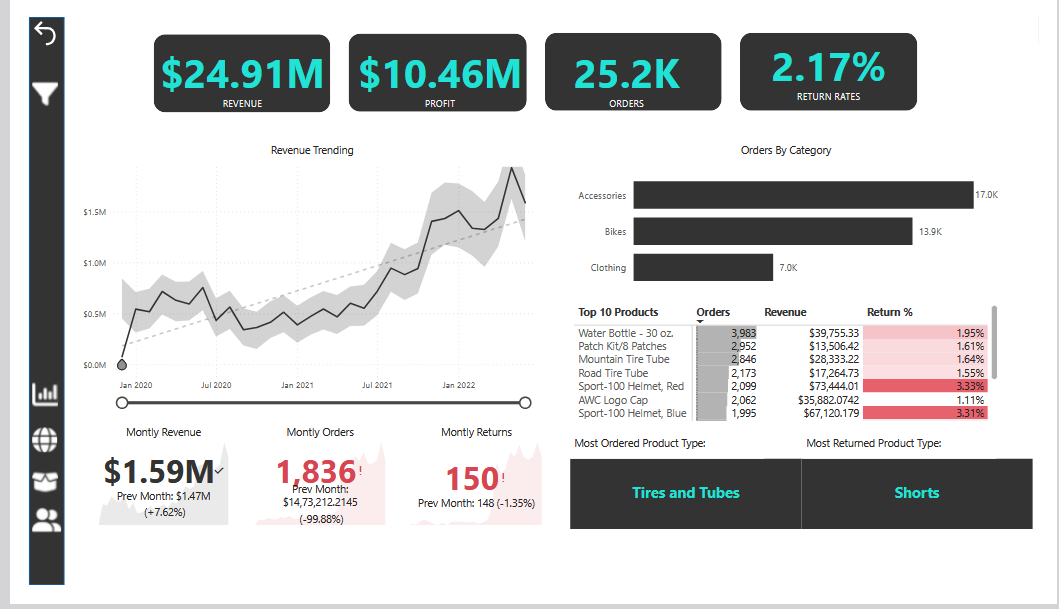

This screenshot's page, from the dashboard's own definition file:
{"tool":"powerbi","page":{"name":"Exec Dashboard","canvas":[1280,720],"ordinal":0},"visuals":[{"type":"card","fields":{"Values":["Measure Table.Total Revenue"]},"box":[150.5,2.6,239.4,148.1],"z":0,"group":"g2"},{"type":"group","id":"g1","title":"KPI Backgrounds","box":[157.6,19.4,968.3,101.1],"z":0,"group":"g3"},{"type":"shape","box":[900.3,19.4,225.2,99.3],"z":0,"group":"g1"},{"type":"actionButton","box":[0,458.2,44.5,40.6],"z":0,"group":"g4"},{"type":"shape","title":"Left Nav Background","box":[0,0,44.5,720],"z":1000},{"type":"group","id":"g2","title":"KPI Values","box":[150.5,2.6,975.4,148.3],"z":1000,"group":"g3"},{"type":"card","fields":{"Values":["Measure Table.Total Profit"]},"box":[401.1,2.6,238.5,148.1],"z":1000,"group":"g2"},{"type":"shape","box":[653.3,19.4,224.3,99.3],"z":1000,"group":"g1"},{"type":"actionButton","box":[0,569.5,44.5,40.6],"z":1000,"group":"g4"},{"type":"group","id":"g3","title":"KPIs","box":[150.5,2.6,975.3,147.9],"z":2000},{"type":"card","fields":{"Values":["Measure Table.Total orders"]},"box":[637.8,2.6,239,148.3],"z":2000,"group":"g2"},{"type":"shape","box":[405,20.3,225.2,99.3],"z":2000,"group":"g1"},{"type":"actionButton","box":[0,515.8,44.5,40.6],"z":2000,"group":"g4"},{"type":"card","fields":{"Values":["Measure Table.Return Rates"]},"box":[900.6,2.6,225.2,130.3],"z":3000,"group":"g2"},{"type":"shape","box":[157.6,21.2,224.3,99.3],"z":3000,"group":"g1"},{"type":"lineChart","title":"Revenue Trending","fields":{"Y":["Measure Table.Total Revenue"],"Category":["Calendar Lookup.Start of Month"]},"box":[62.8,159.7,591.7,340.4],"z":3000},{"type":"actionButton","box":[0,600.9,44.5,72],"z":3000,"group":"g4"},{"type":"kpi","title":"Montly Revenue","fields":{"Indicator":["Measure Table.Total Revenue"],"TrendLine":["Calendar Lookup.Start of Month"],"Goal":["Measure Table.Previous Month Revenue"]},"box":[82.8,516.6,175.5,132.7],"z":4000},{"type":"kpi","title":"Montly Returns","fields":{"Indicator":["Measure Table.Total returns"],"TrendLine":["Calendar Lookup.Start of Month"],"Goal":["Measure Table.Previous Month Returns"]},"box":[479.5,516.6,175.5,132.7],"z":5000},{"type":"kpi","title":"Montly Orders","fields":{"TrendLine":["Calendar Lookup.Start of Month"],"Goal":["Measure Table.Previous Month Revenue"],"Indicator":["Measure Table.Total orders"]},"box":[281.1,516.6,175.5,132.7],"z":6000},{"type":"clusteredBarChart","title":"Orders By Category","fields":{"Category":["Product Categories Lookup.CategoryName"],"Y":["Measure Table.Total orders"]},"box":[686.4,159.8,546.5,199.8],"z":7000},{"type":"pivotTable","fields":{"Rows":["Product Lookup.ProductName"],"Values":["Measure Table.Total orders","Measure Table.Total Revenue","Measure Table.Return Rates"]},"box":[686,360,547.2,157.1],"z":8000},{"type":"card","fields":{"Values":["Min(Product Subcategory Lookup.SubcategoryName)"]},"box":[686,560.3,293.2,89],"z":9000},{"type":"textbox","box":[686,526.3,246.1,34],"z":10000},{"type":"card","fields":{"Values":["Min(Product Subcategory Lookup.SubcategoryName)"]},"box":[979.2,560.3,293.2,89],"z":11000},{"type":"textbox","box":[980,525.8,246.1,34],"z":12000},{"type":"actionButton","box":[0,0,45.8,40.6],"z":13000},{"type":"group","id":"g4","title":"Navigation Buttons","box":[0,458.2,44.5,214.7],"z":14000},{"type":"actionButton","box":[0,77.2,44.5,40.6],"z":15000}]}

Visuals, with their boxes on the page's 1280x720 design canvas (x1, y1, x2, y2). These are canvas units, not pixel positions in the 1059x609 screenshot, which may show the page scaled, cropped or inside an application window:
card - Measure Table.Total Revenue: (x1=150, y1=3, x2=390, y2=151)
"KPI Backgrounds" group: (x1=158, y1=19, x2=1126, y2=120)
shape: (x1=900, y1=19, x2=1126, y2=119)
actionButton: (x1=0, y1=458, x2=44, y2=499)
"Left Nav Background" shape: (x1=0, y1=0, x2=44, y2=720)
"KPI Values" group: (x1=150, y1=3, x2=1126, y2=151)
card - Measure Table.Total Profit: (x1=401, y1=3, x2=640, y2=151)
shape: (x1=653, y1=19, x2=878, y2=119)
actionButton: (x1=0, y1=570, x2=44, y2=610)
"KPIs" group: (x1=150, y1=3, x2=1126, y2=150)
card - Measure Table.Total orders: (x1=638, y1=3, x2=877, y2=151)
shape: (x1=405, y1=20, x2=630, y2=120)
actionButton: (x1=0, y1=516, x2=44, y2=556)
card - Measure Table.Return Rates: (x1=901, y1=3, x2=1126, y2=133)
shape: (x1=158, y1=21, x2=382, y2=120)
"Revenue Trending" lineChart: (x1=63, y1=160, x2=654, y2=500)
actionButton: (x1=0, y1=601, x2=44, y2=673)
"Montly Revenue" kpi: (x1=83, y1=517, x2=258, y2=649)
"Montly Returns" kpi: (x1=480, y1=517, x2=655, y2=649)
"Montly Orders" kpi: (x1=281, y1=517, x2=457, y2=649)
"Orders By Category" clusteredBarChart: (x1=686, y1=160, x2=1233, y2=360)
pivotTable - Product Lookup.ProductName x Measure Table.Total orders: (x1=686, y1=360, x2=1233, y2=517)
card - Min(Product Subcategory Lookup.SubcategoryName): (x1=686, y1=560, x2=979, y2=649)
textbox: (x1=686, y1=526, x2=932, y2=560)
card - Min(Product Subcategory Lookup.SubcategoryName): (x1=979, y1=560, x2=1272, y2=649)
textbox: (x1=980, y1=526, x2=1226, y2=560)
actionButton: (x1=0, y1=0, x2=46, y2=41)
"Navigation Buttons" group: (x1=0, y1=458, x2=44, y2=673)
actionButton: (x1=0, y1=77, x2=44, y2=118)
